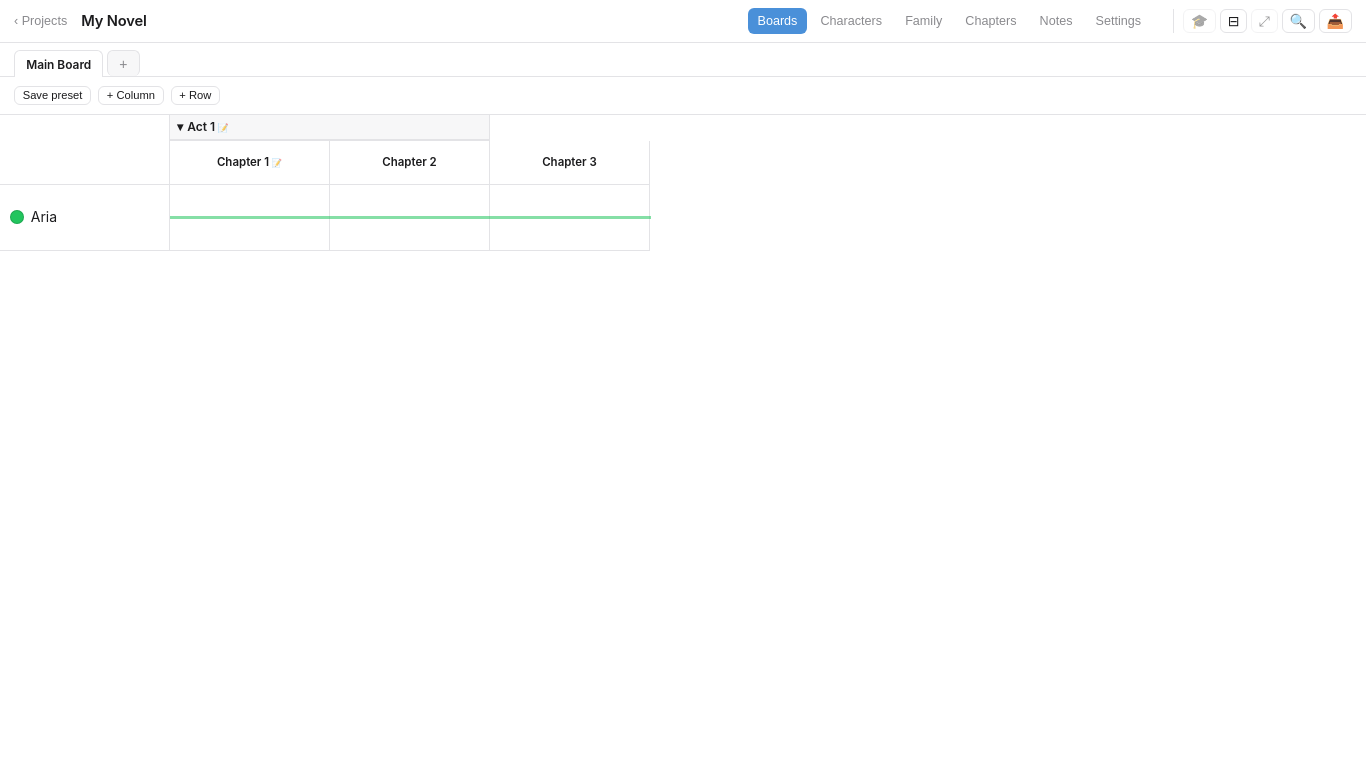
Test case: group and column notes in the side panel › switches from one header’s note to another without keeping the first’s text
Expected: the element with class "board-grid" is shown, [0,114,651,250]
What coordinates should you click on to do the following:
click the button with class "col-group-label"
I would click on:
 (208, 126)
Its box is [187,119,229,134].
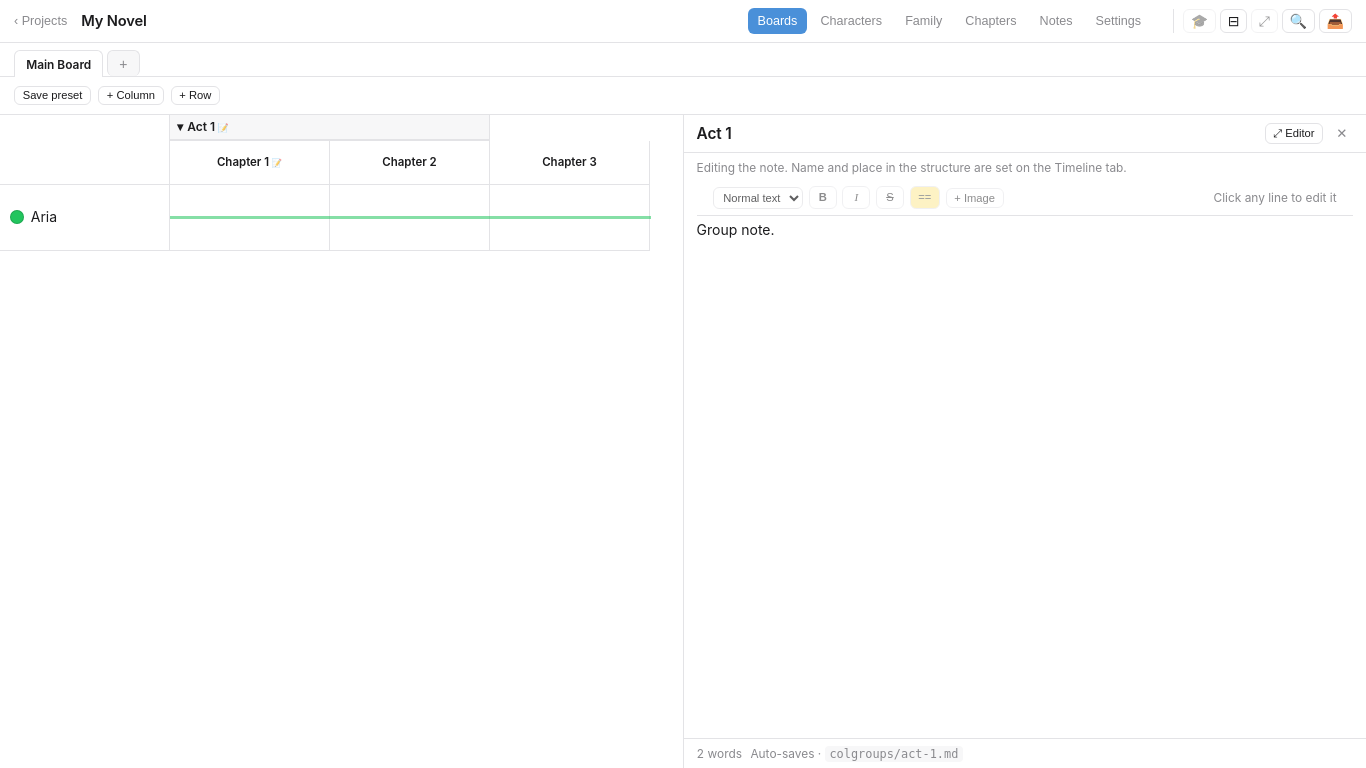
Expected: the text "Group note." is shown, [697,222,775,238]
What coordinates should you click on to do the following:
click the button "Chapter 1 📝"
I would click on:
 (249, 162)
Its box is [217,155,282,169].
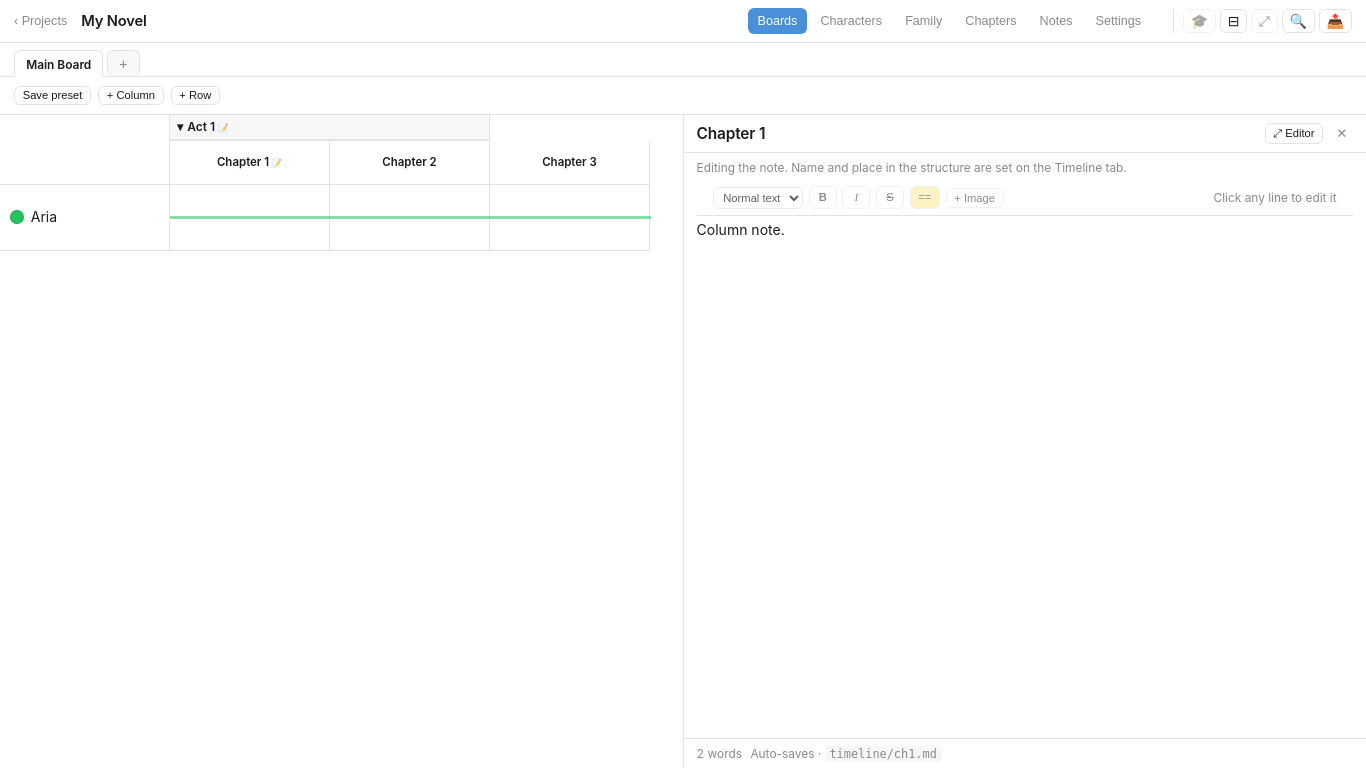
Expected: the text "Column note." is shown, [697,222,785,238]
Expected: the text "Group note." is gone
